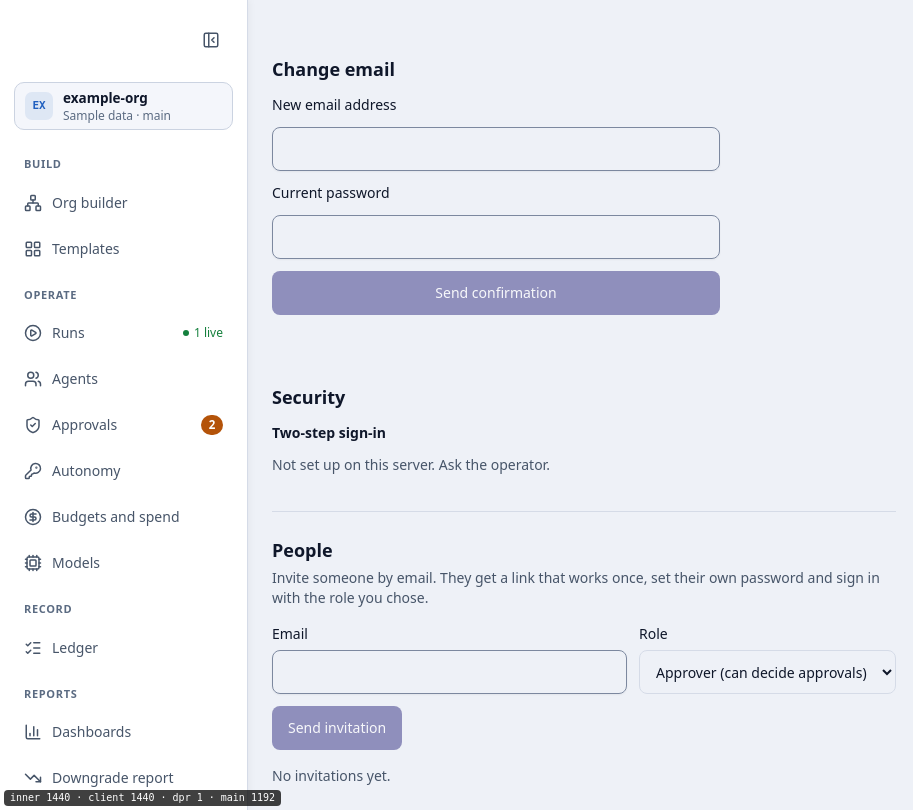
Test case: People: invite list (owner) › explains a conflict in the server's words
(page scrolled)
Step 1. Type "ada@example.org" into the field labelled "Email" → (450, 672), box [272,650,627,694]
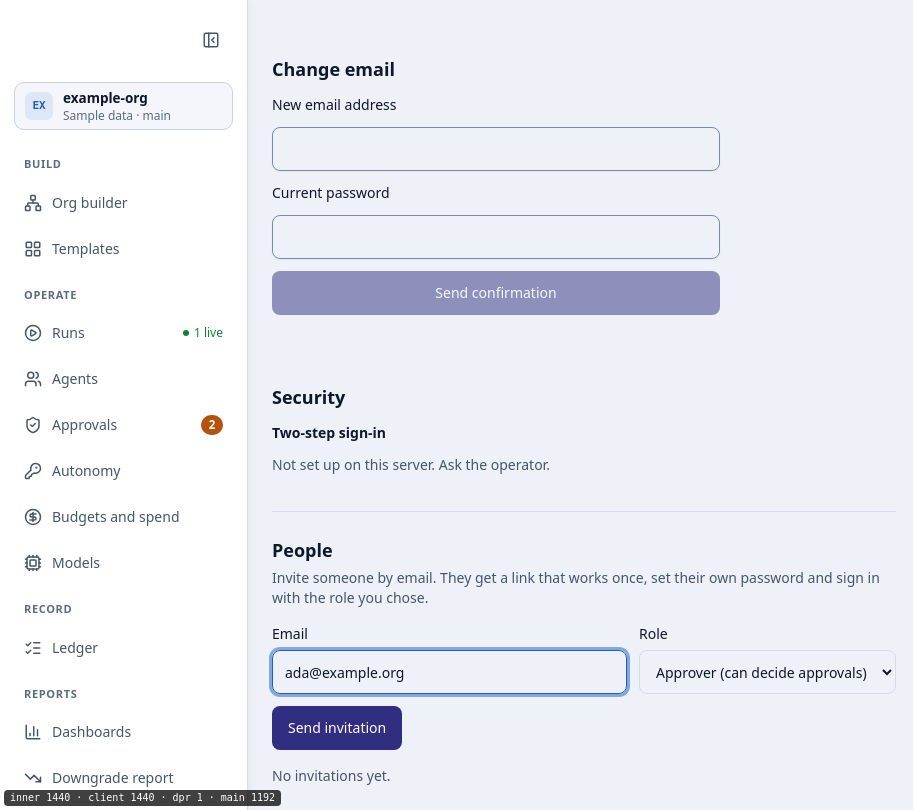
Step 2. Click the button "Send invitation" → (337, 728), box [272,706,402,750]
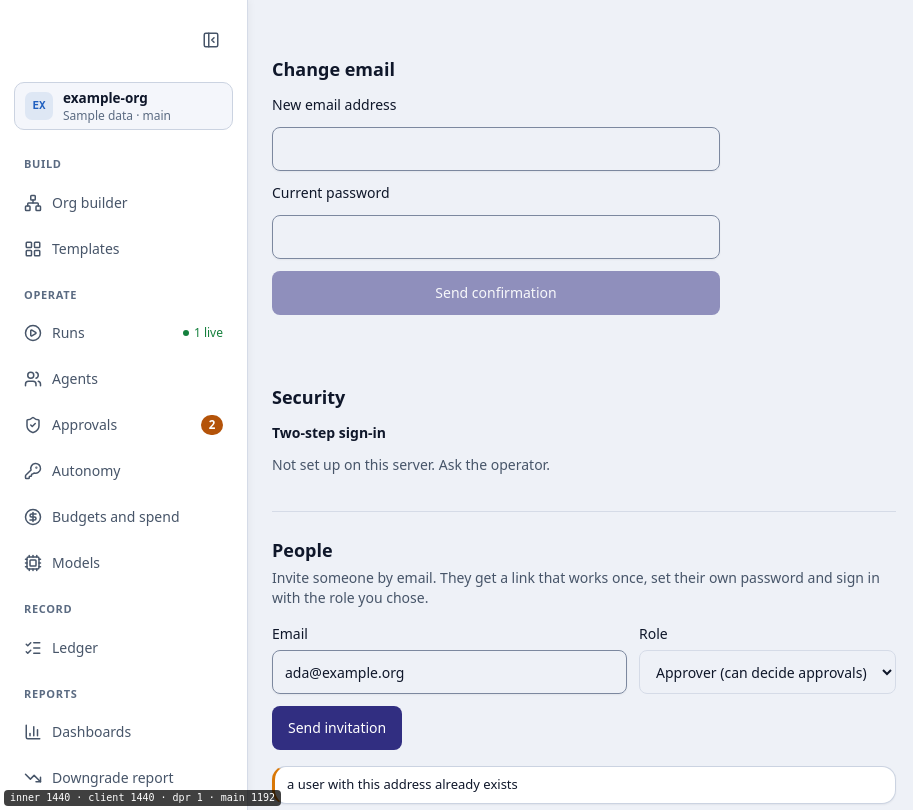
Check: the message reads "a user with this address already exists", box [287,775,518,793]
